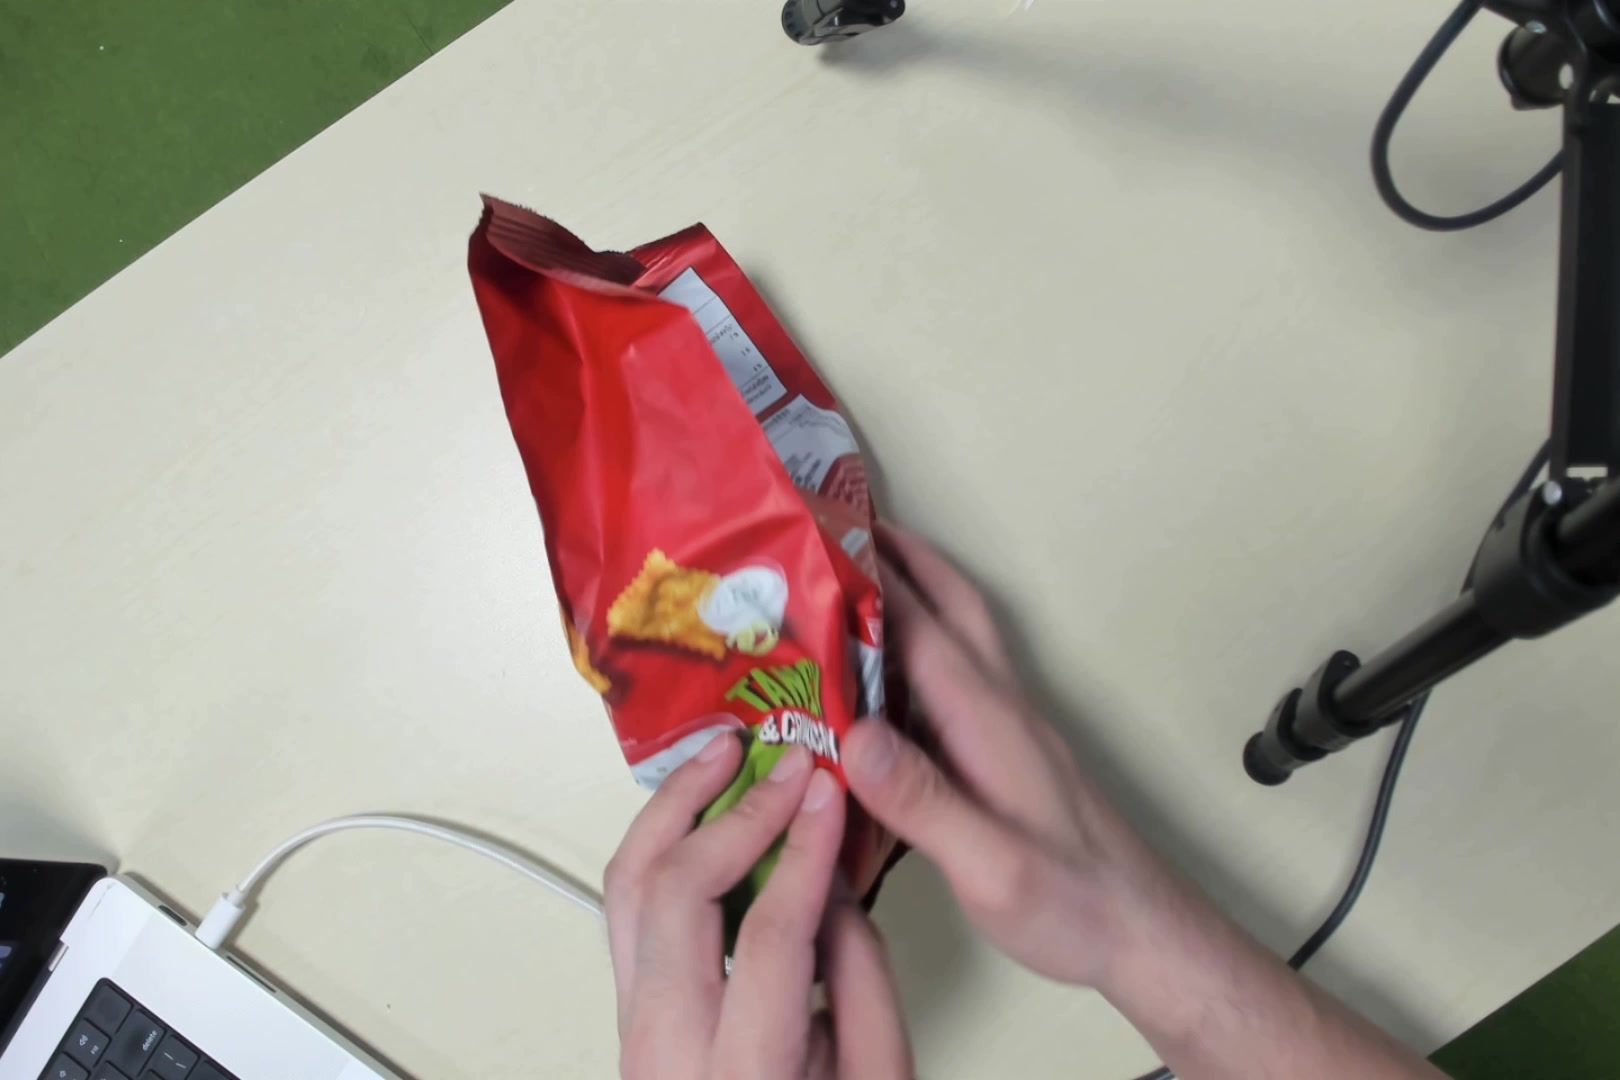BiscuitsCrackersCookies_200-299g_NonHalal_NonHealthy: (524, 219, 897, 840)
